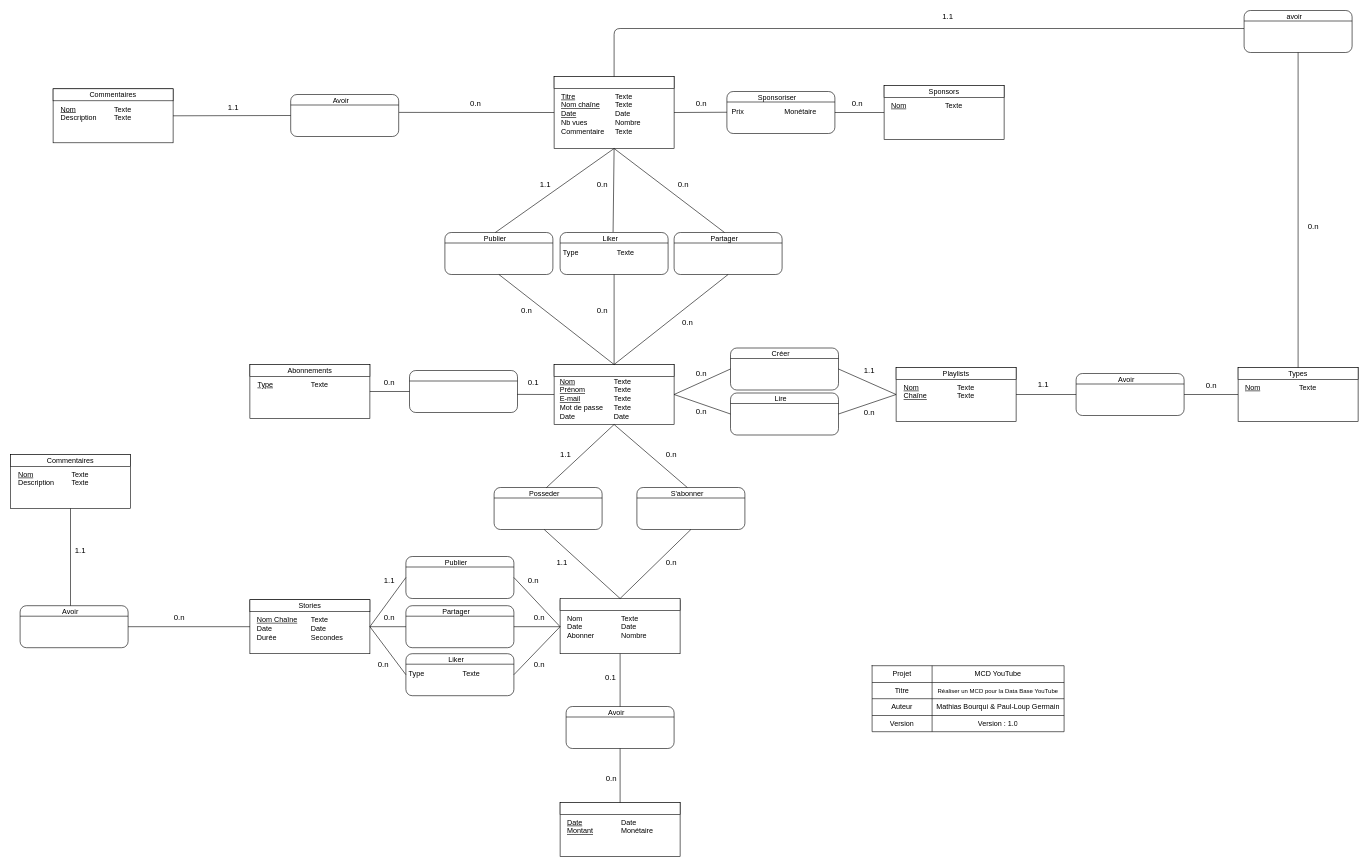
Some shapes in this 1369 by 867 pixel diagram are drawn without their labels. The box of each missing label's shape, as (x1, y1, x2, y2) in pixels:
Chaines: (560, 598, 680, 610)
Monétisation: (560, 802, 680, 814)
Payer: (409, 370, 518, 412)
Utilisateurs: (554, 364, 674, 376)
Vidéos: (554, 76, 674, 88)
